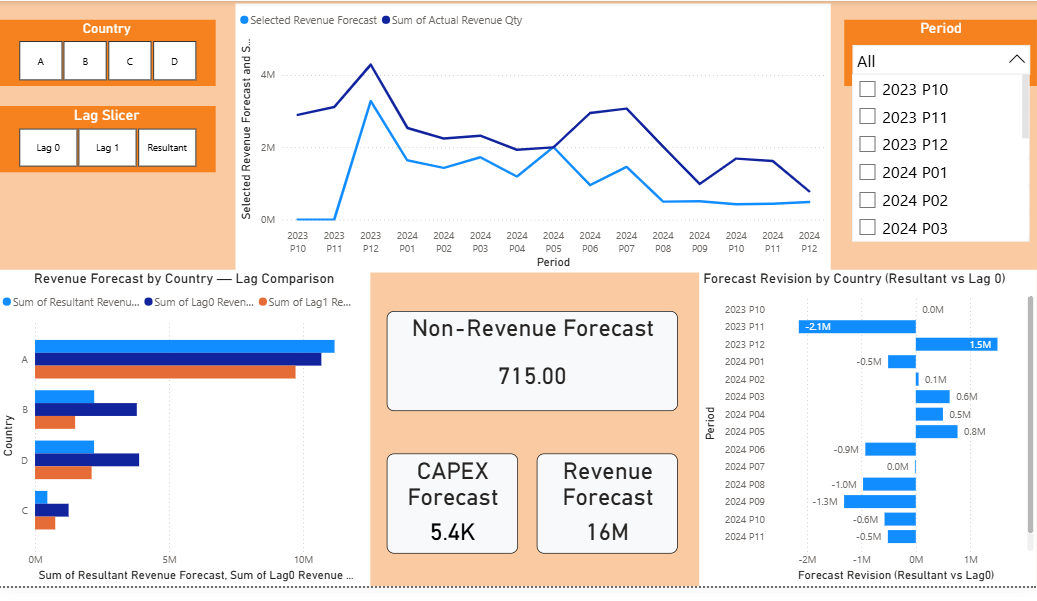

This screenshot's page, from the dashboard's own definition file:
{"tool":"powerbi","page":{"name":" Executive Overview","canvas":[1280,720],"ordinal":0},"visuals":[{"type":"slicer","title":"Lag Slicer","fields":{"Values":["SlicerLag.LagLabel"]},"box":[0,129.3,267.8,81.6],"z":0},{"type":"slicer","title":"Country","fields":{"Values":["DimCountry.Country"]},"box":[0,23.1,267.8,81.6],"z":1000},{"type":"slicer","title":"Period","fields":{"Values":["DimPeriod.Period"]},"box":[1041.8,23.1,238.5,81.6],"z":2000},{"type":"card","title":"Revenue Forecast","fields":{"Values":["ForecastWide.Selected Revenue Forecast"]},"box":[663.2,557.1,173.9,123.1],"z":3000},{"type":"card","title":"Non-Revenue Forecast","fields":{"Values":["ForecastWide.Selected NonRevenue Forecast"]},"box":[478.6,381.6,358.5,123.1],"z":4000},{"type":"card","title":"CAPEX Forecast","fields":{"Values":["ForecastWide.Selected CAPEX Forecast"]},"box":[478.6,557.1,161.6,123.1],"z":5000},{"type":"clusteredBarChart","title":" Revenue Forecast by Country — Lag Comparison","fields":{"Category":["DimCountry.Country"],"Y":["Sum(ForecastWide.Resultant Revenue Forecast)","Sum(ForecastWide.Lag0 Revenue Forecast)","Sum(ForecastWide.Lag1 Revenue Forecast)"]},"box":[0,330.9,458.6,389.3],"z":6000},{"type":"lineChart","title":"Revenue Forecast vs Actual over Time","fields":{"Category":["DimPeriod.Period"],"Y":["ForecastWide.Selected Revenue Forecast","Sum(ForecastWide.Actual Revenue Qty)"]},"box":[292.4,3.1,732.5,330.9],"z":7000},{"type":"clusteredBarChart","title":"Forecast Revision by Country (Resultant vs Lag 0)","fields":{"Y":["ForecastWide.Forecast Revision (Resultant vs Lag0)"],"Category":["DimPeriod.Period"]},"box":[863.3,330.9,417,389.3],"z":7001}]}

Visuals, with their boxes in screenshot pixels (x1, y1, x2, y2), scaled from the page's 1280x720 canvas onto the 1037x601 screenshot:
"Lag Slicer" slicer: bbox=(0, 108, 217, 176)
"Country" slicer: bbox=(0, 19, 217, 87)
"Period" slicer: bbox=(844, 19, 1036, 87)
"Revenue Forecast" card: bbox=(537, 465, 678, 568)
"Non-Revenue Forecast" card: bbox=(388, 319, 678, 421)
"CAPEX Forecast" card: bbox=(388, 465, 519, 568)
" Revenue Forecast by Country — Lag Comparison" clusteredBarChart: bbox=(0, 276, 372, 600)
"Revenue Forecast vs Actual over Time" lineChart: bbox=(237, 3, 830, 279)
"Forecast Revision by Country (Resultant vs Lag 0)" clusteredBarChart: bbox=(699, 276, 1036, 600)
